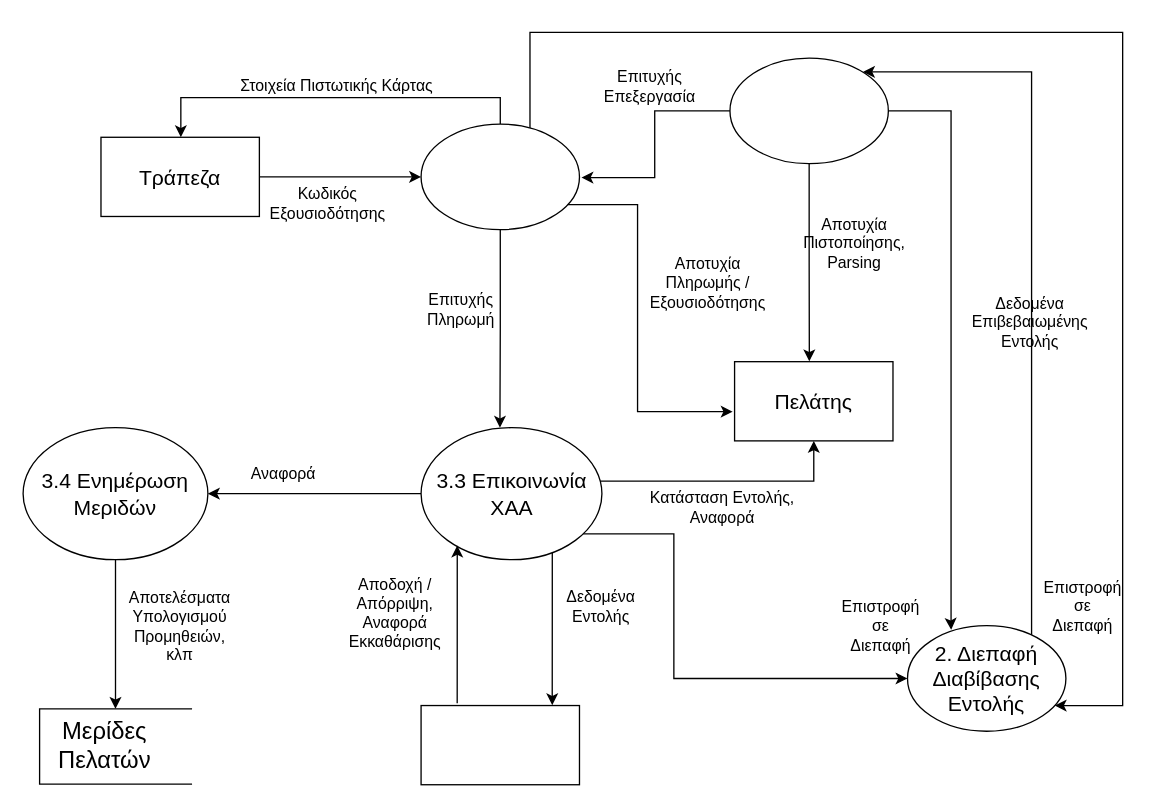
The diagram is 1156 pixels wide and 808 high, and some of its shapes have lost their labels. Each missing label, with the box of its shape:
3.1 Επεξεργασία Εντολής: (729, 57, 888, 164)
3.2 Πληρωμή: (420, 123, 579, 230)
ΧΑΑ: (420, 704, 579, 785)
